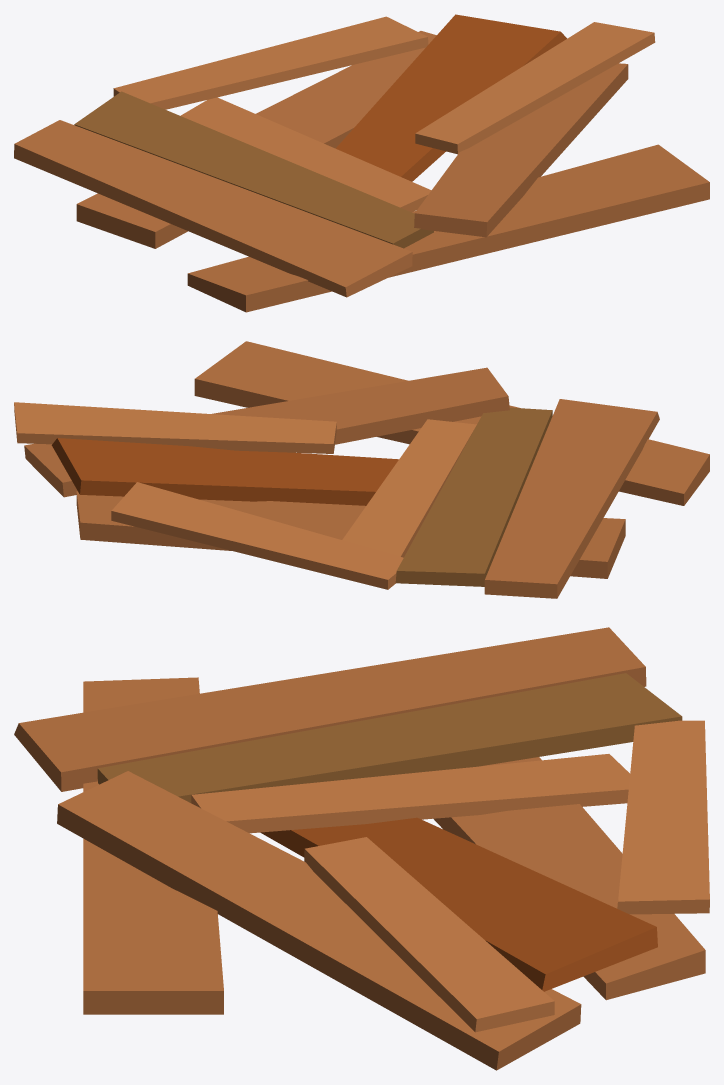
The model's file is wood_planks1.fbx.
The picture shows the model from 3 angles, top to bottom: view 1: azimuth 30°, elevation 25°; view 2: azimuth 150°, elevation 25°; view 3: azimuth 270°, elevation 25°; orthographic projection. The views are drawn at different scales.
Parts seen in each view (by area): view 1: wood_planks1; view 2: wood_planks1; view 3: wood_planks1.
Part boxes in pixels (bbox=[...]): wood_planks1: bbox=[14, 14, 709, 312]; wood_planks1: bbox=[14, 341, 709, 598]; wood_planks1: bbox=[14, 627, 709, 1070].
Size of the model in its own units: 194 by 15.79 by 144.
